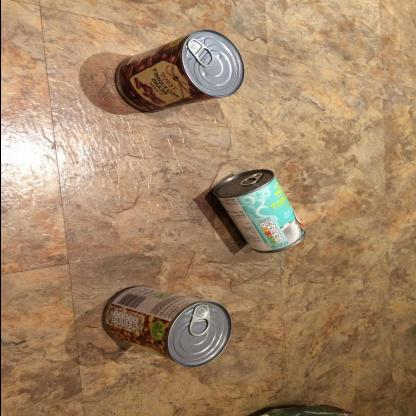metal: (100, 284, 232, 369), (112, 30, 244, 115), (208, 168, 306, 256)
